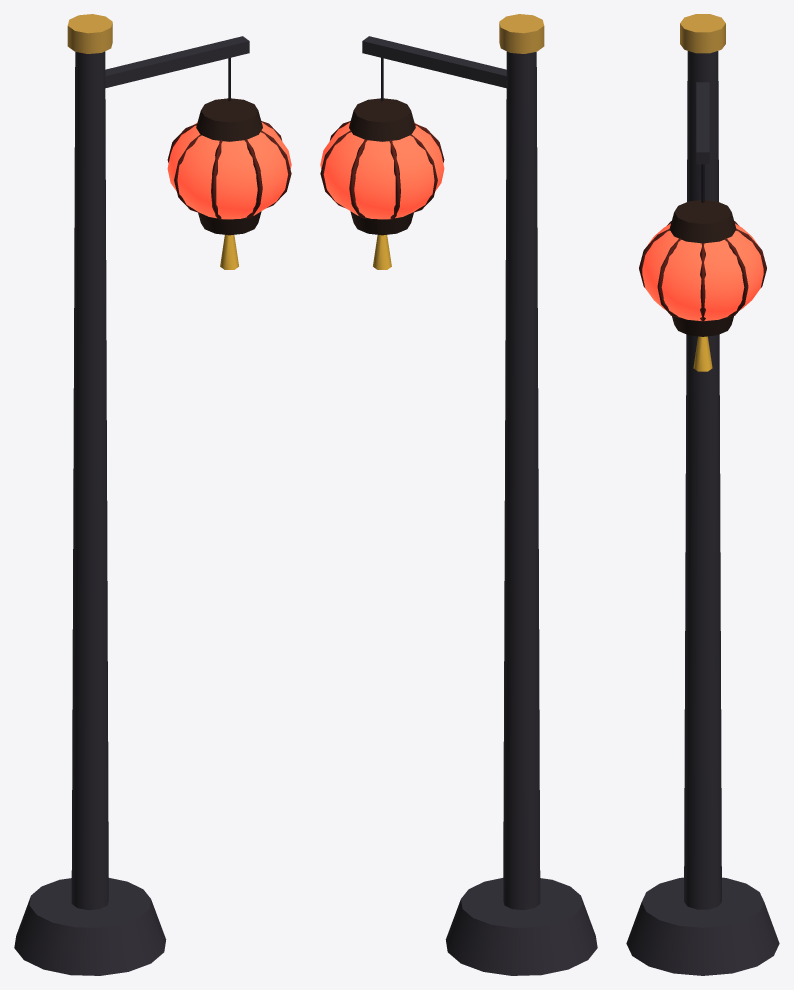
File: lantern_post.glb
3 views of the same model, side by side, from view 1: azimuth 30°, elevation 25°; view 2: azimuth 150°, elevation 25°; view 3: azimuth 270°, elevation 25° (orthographic).
Bounding box in the file's own units: 0.7875 × 2.65 × 0.4.
